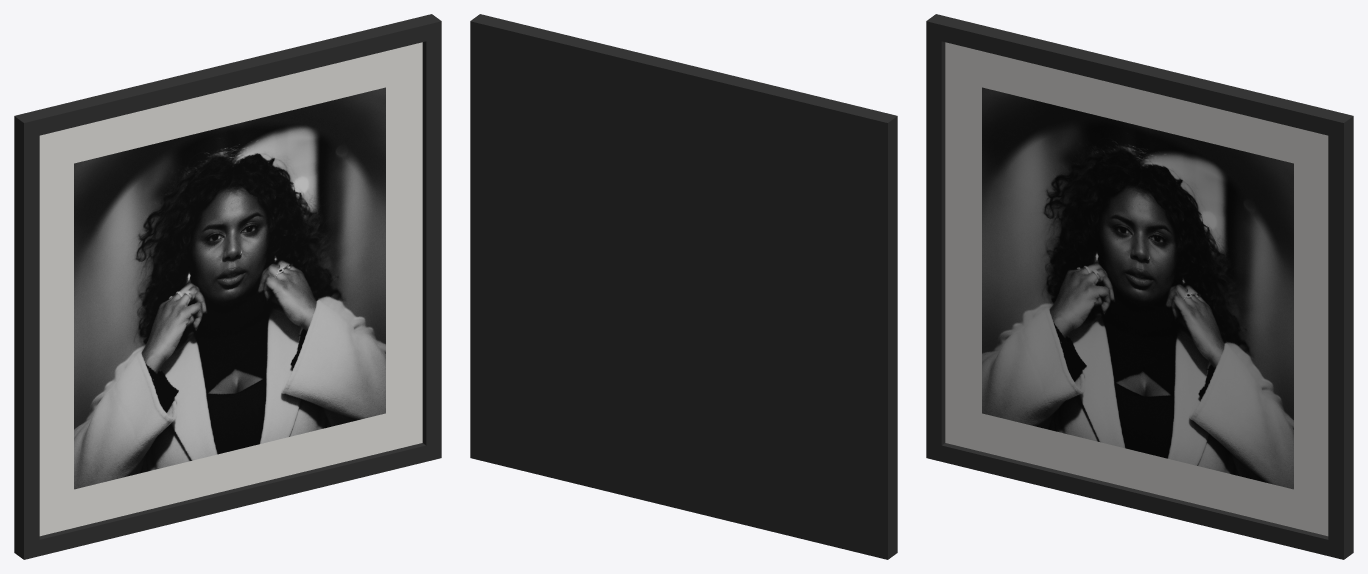
Rendered from kragen-40.gltf.
3 views of the same model, side by side, from view 1: azimuth 30°, elevation 25°; view 2: azimuth 150°, elevation 25°; view 3: azimuth 330°, elevation 25° (orthographic).
Parts seen in each view (by area): view 1: tavla; view 2: tavla; view 3: tavla.
Boxes of the visible parts, x1,y1,x2,y2 form: tavla: [14, 14, 441, 559]; tavla: [470, 14, 897, 559]; tavla: [926, 14, 1353, 559].
Size of the model in its own units: 0.5359 by 0.5355 by 0.022.
Materials: 3 (1 with a texture image).
